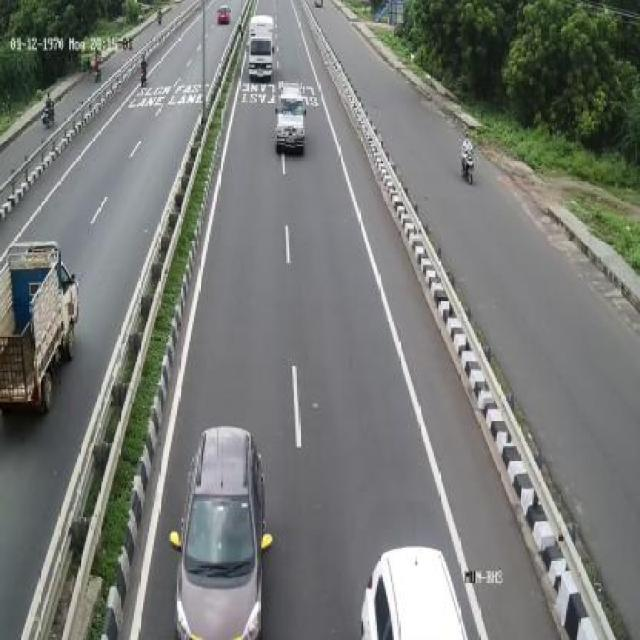car: (170, 421, 272, 640), (361, 541, 460, 640), (271, 83, 318, 155)
